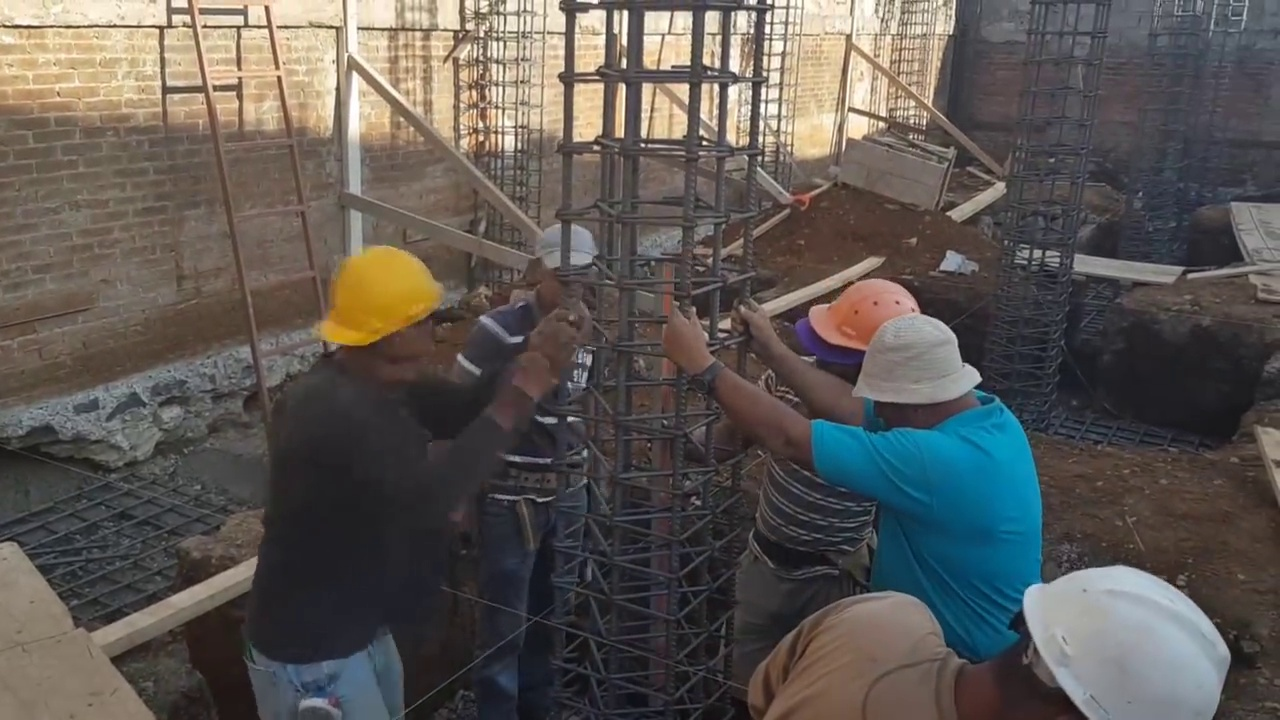helmet: (1023, 567, 1236, 720), (310, 239, 450, 353), (808, 277, 927, 352)
helmet-off: (851, 313, 991, 433), (529, 221, 600, 312)
helmet-on: (947, 566, 1237, 720), (308, 232, 450, 394), (799, 274, 930, 381)
person: (238, 231, 576, 720), (657, 301, 1043, 659), (683, 272, 932, 694), (742, 566, 1241, 720), (454, 222, 600, 717)
